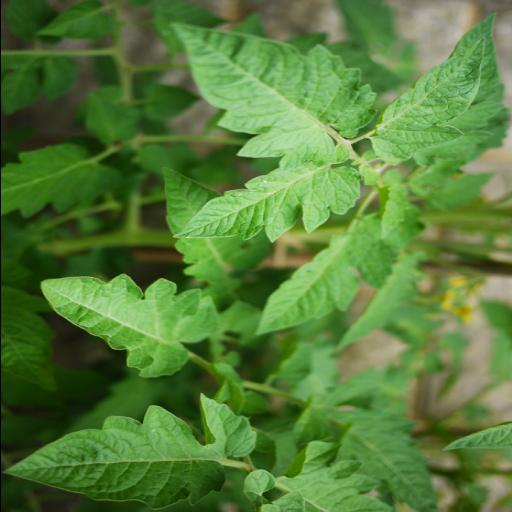Healthy: (0, 392, 258, 510), (172, 25, 378, 155), (368, 14, 496, 167), (39, 272, 219, 378), (170, 145, 362, 243), (250, 218, 398, 336)
